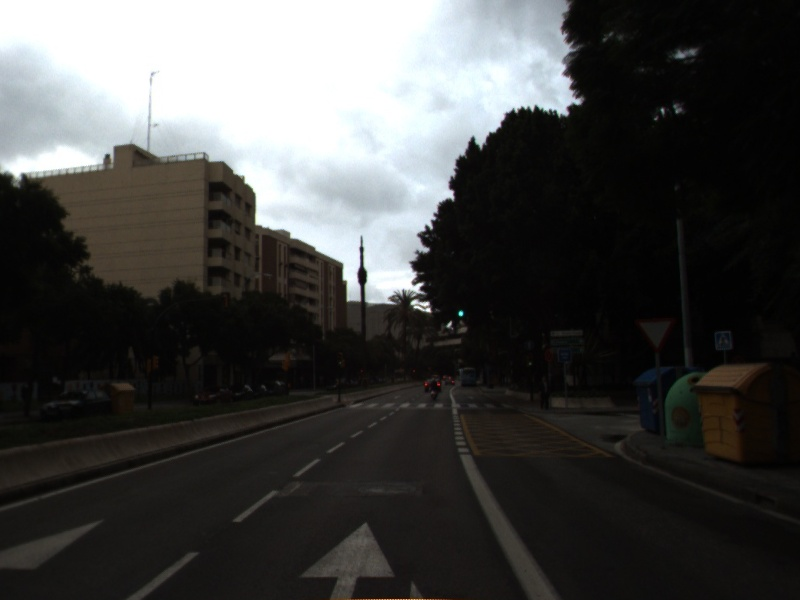STRAIGHT: (295, 515, 402, 600)
